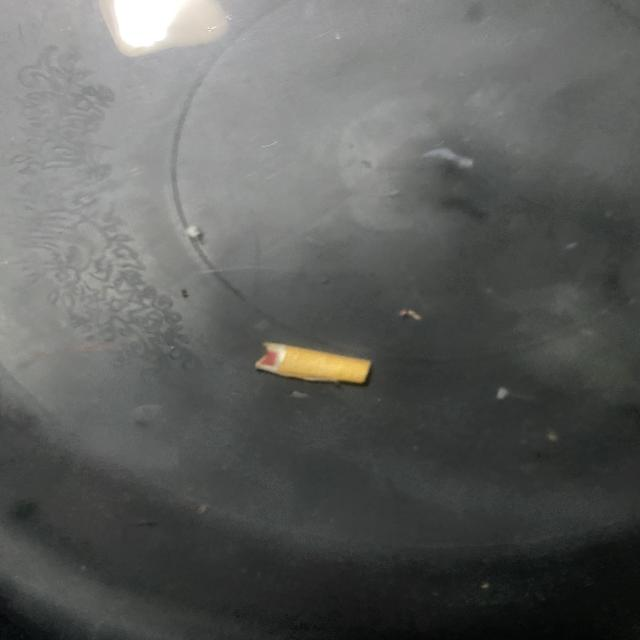Cigarette Filter: (243, 312, 398, 407)
